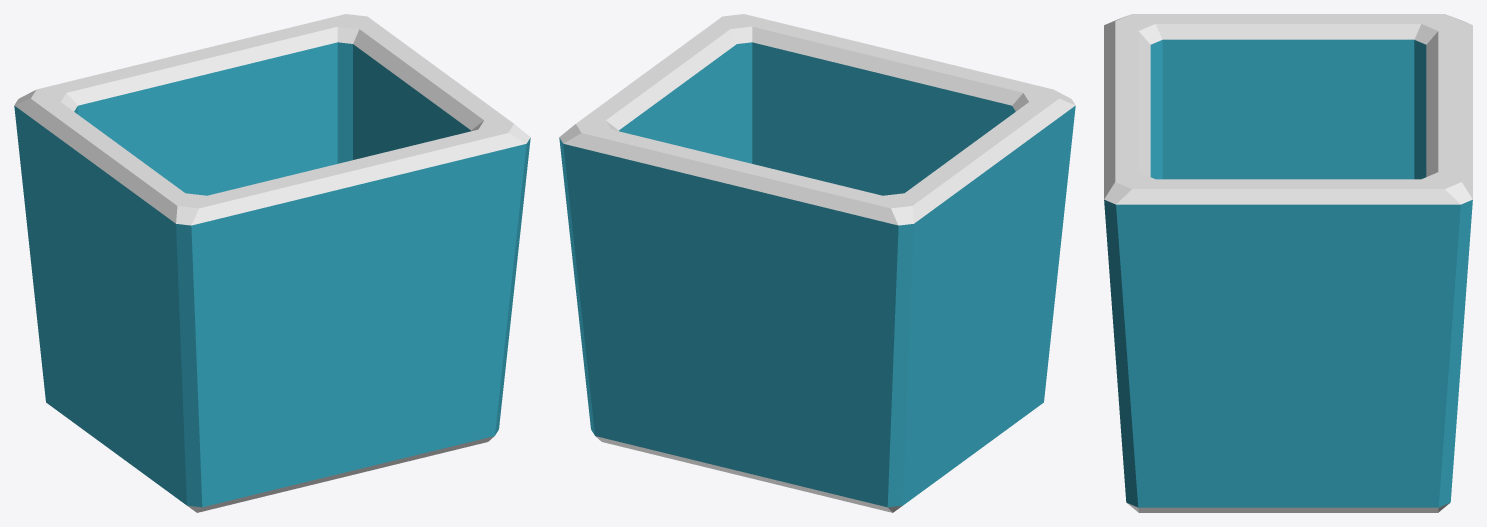
The model's file is cup.fbx.
The picture shows the model from 3 angles, left to right: view 1: azimuth 30°, elevation 25°; view 2: azimuth 150°, elevation 25°; view 3: azimuth 270°, elevation 25°; orthographic projection. The views are drawn at different scales.
Visible parts, largest first — view 1: cup; view 2: cup; view 3: cup.
Boxes of the visible parts, x1,y1,x2,y2 form: cup: [14, 14, 530, 512]; cup: [559, 14, 1075, 512]; cup: [1104, 14, 1472, 512].
Size of the model in its own units: 236 by 200 by 199.
